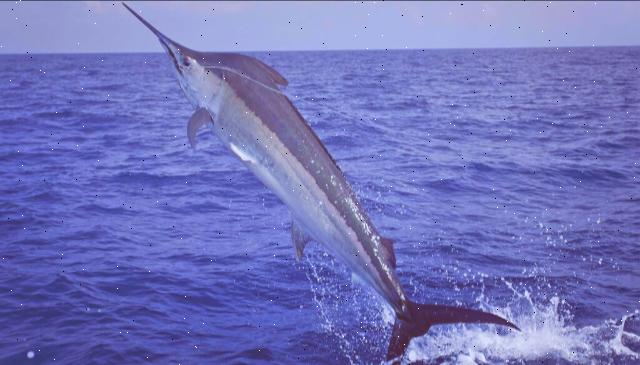Mulut: (115, 1, 209, 86)
Sirip Anal: (346, 227, 404, 298)
Sirip Dada: (173, 98, 224, 160)
Sirip Ekor: (376, 295, 524, 365)
Sirip Perut: (280, 214, 324, 276)
